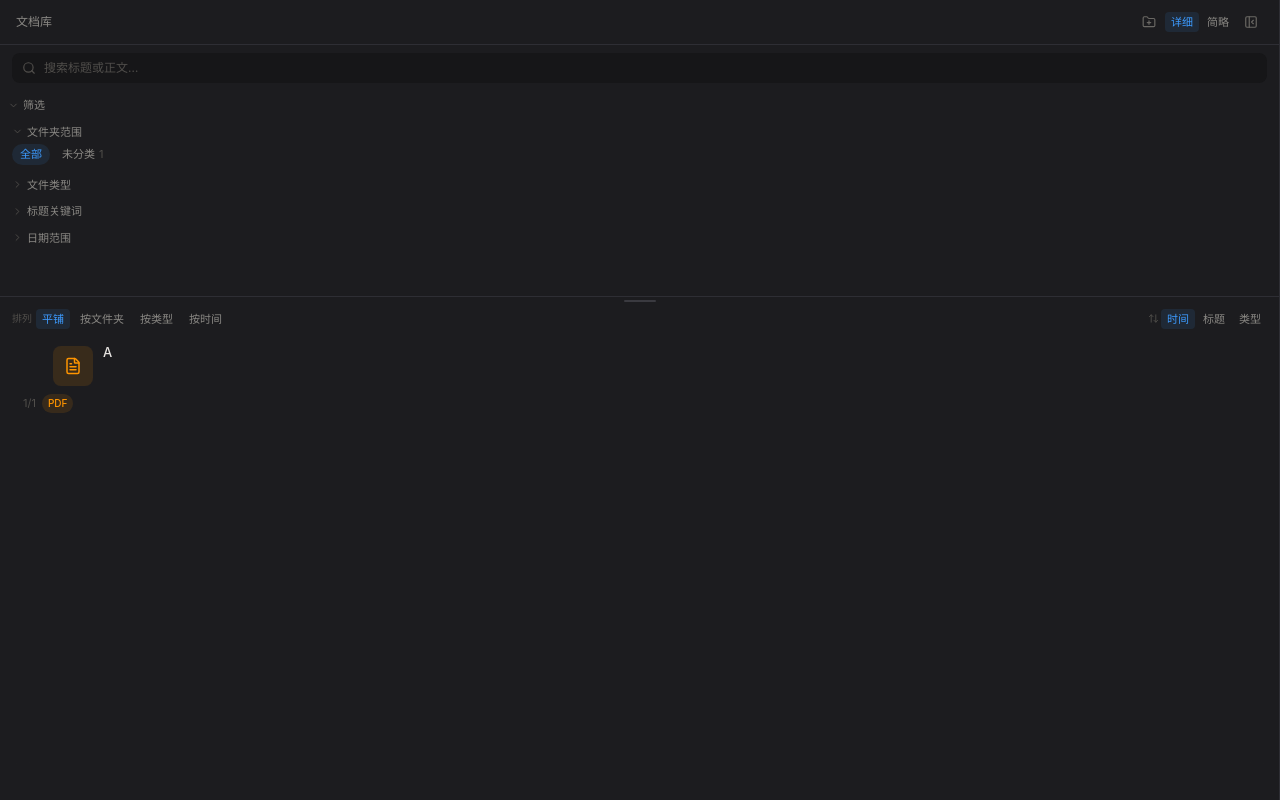
it: 语义路退化提示 › semantic.error 非 null → 底部出现提示，且**不**冒充检索失败
The width and height of the screenshot is (1280, 800).
In the field with placeholder "搜索标题或正文…": (650, 68) x1=44 y1=59 x2=1257 y2=77, type "关键词"
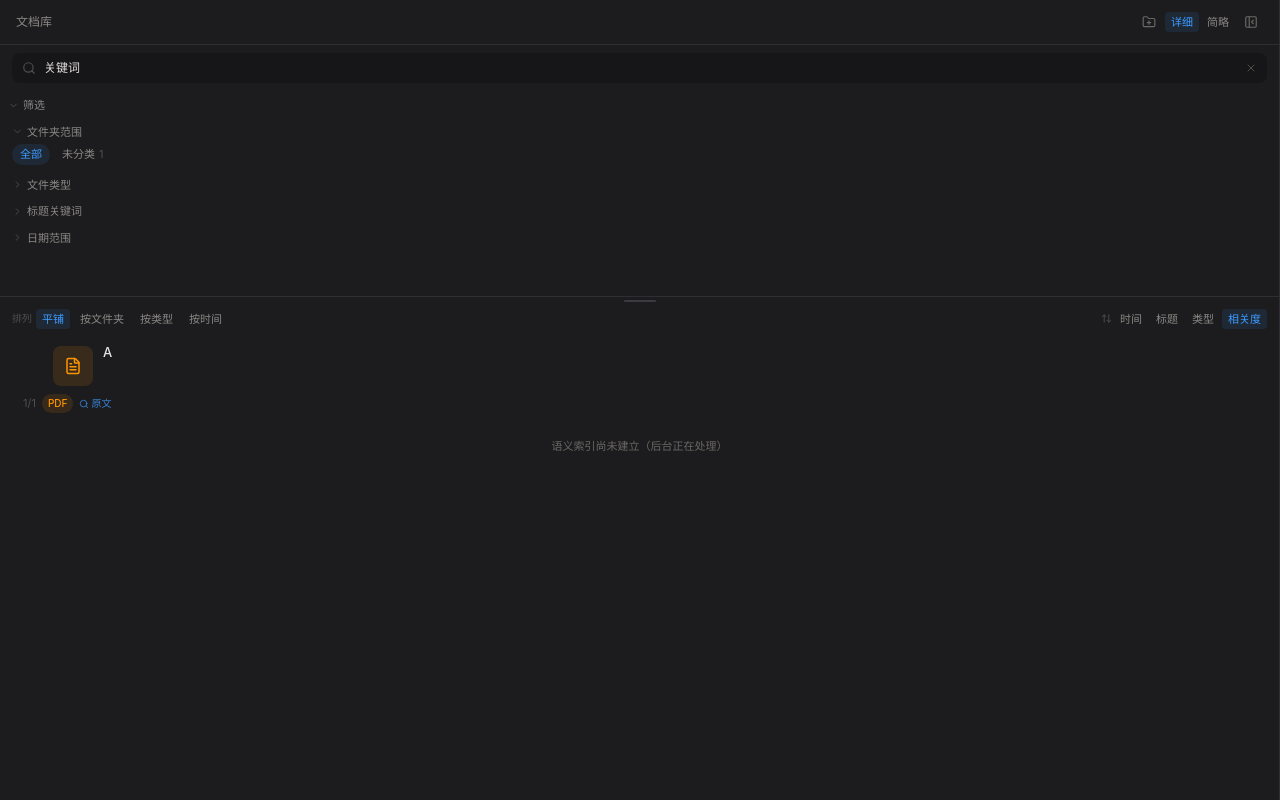
Result: the text "语义索引尚未建立（后台正在处理）" is shown at x1=552 y1=439 x2=728 y2=453
